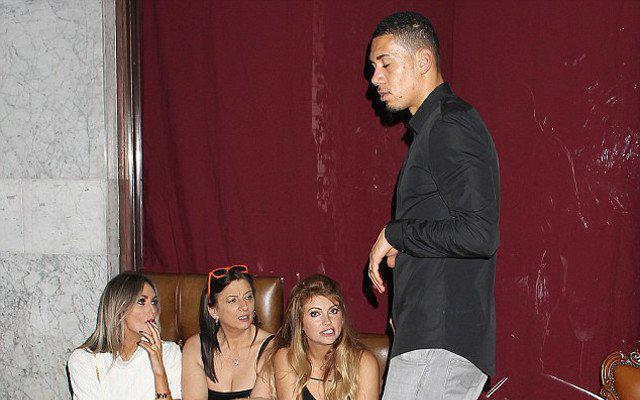Drunk: (364, 34, 419, 110), (127, 280, 161, 336), (303, 303, 346, 345), (223, 284, 255, 328)
